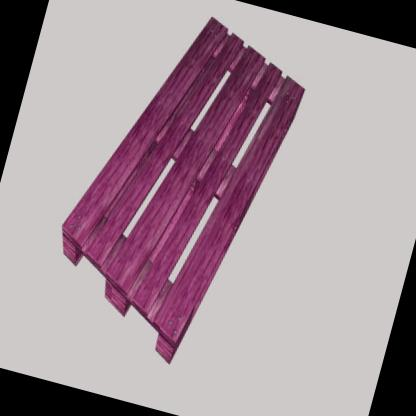BoxFace: (56, 10, 312, 379)
